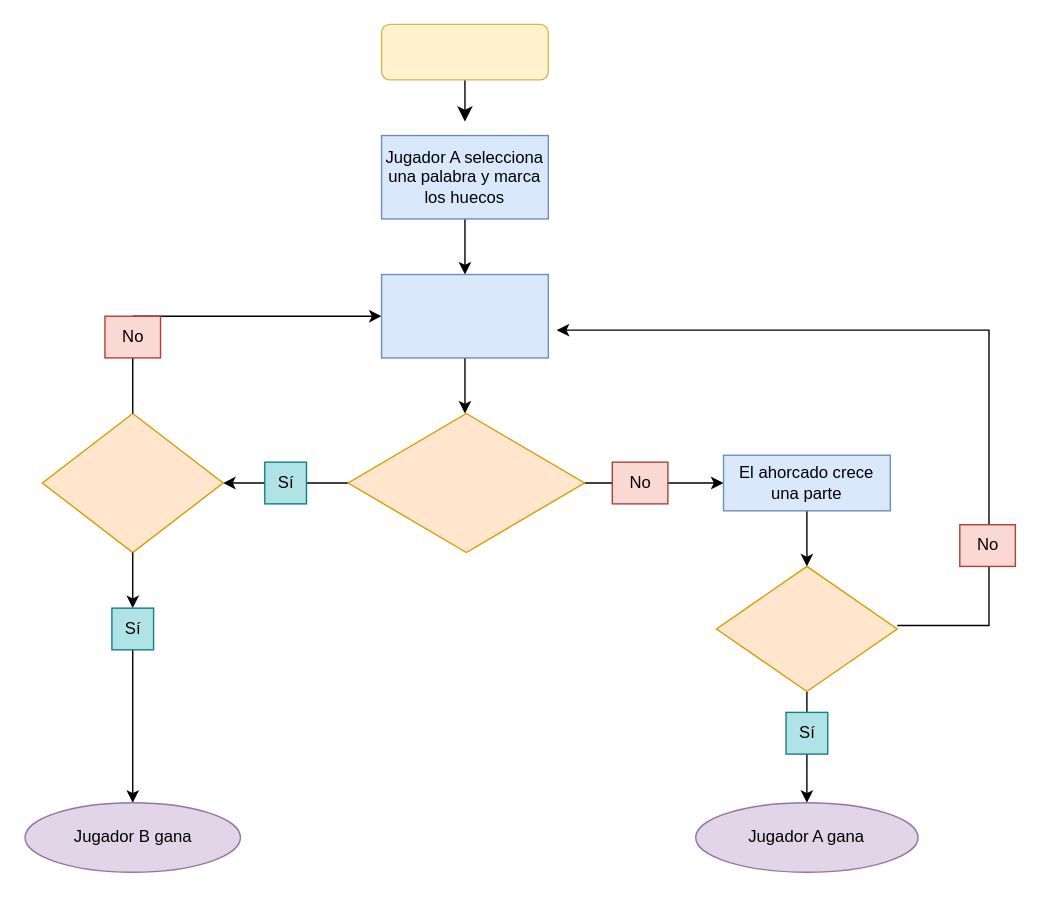
Some shapes in this 1040 by 897 pixel diagram are drawn without their labels. The centre of each missing label's shape, as x and y in pixels:
Ha completado la palabra?: point (132, 482)
Juego del ahorcado: point (464, 51)
Jugador B selecciona una letra: point (464, 315)
La letra está en la palabra oculta?: point (465, 482)
¿El ahorcado está completo?: point (806, 628)
